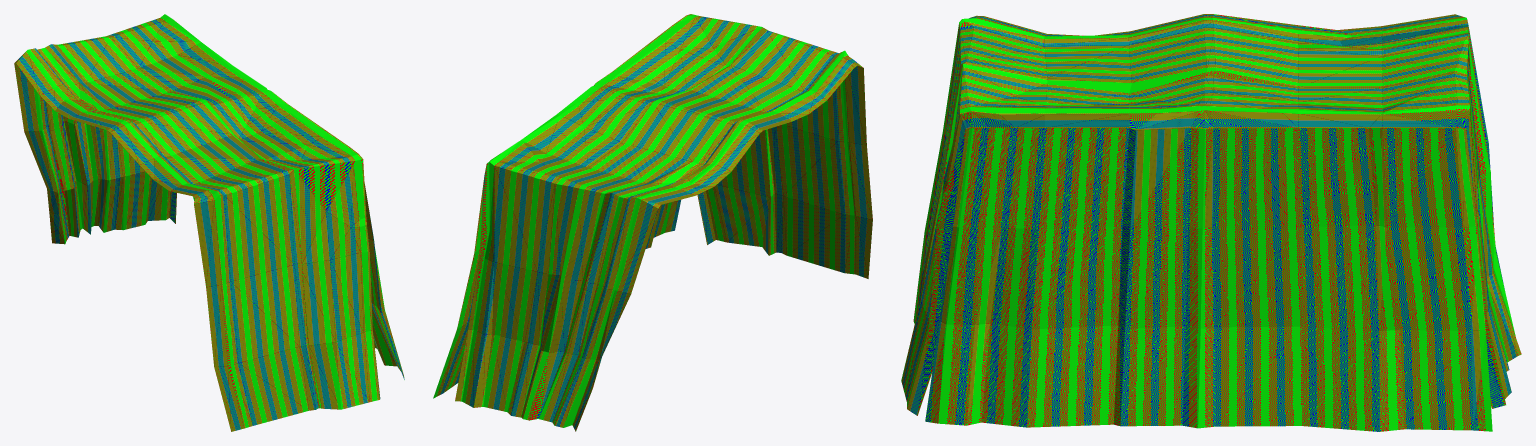
File: coverForStage.fbx
3 views of the same model, side by side, from view 1: azimuth 30°, elevation 25°; view 2: azimuth 150°, elevation 25°; view 3: azimuth 270°, elevation 25° (orthographic). The views are drawn at different scales.
Parts seen in each view (by area): view 1: CoverForStage; view 2: CoverForStage; view 3: CoverForStage.
Part boxes in pixels (x1,y1,x2,y2): CoverForStage: (14, 14, 404, 431); CoverForStage: (433, 14, 872, 431); CoverForStage: (901, 14, 1521, 431).
Bounding box in the file's own units: 539 × 579 × 1058.
